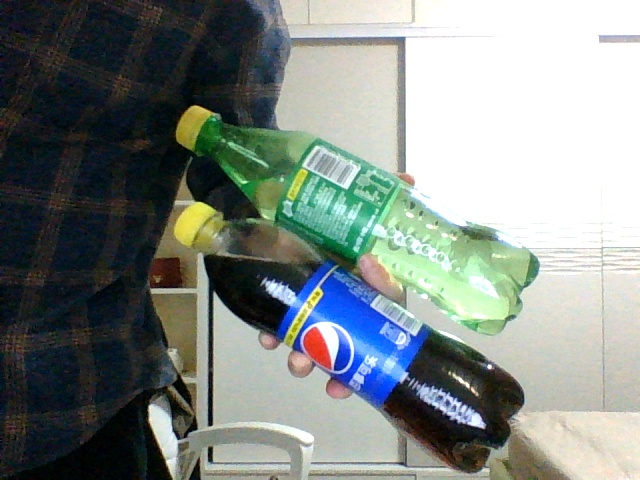Cola: (173, 208, 524, 473)
Sprite: (175, 106, 539, 332)
